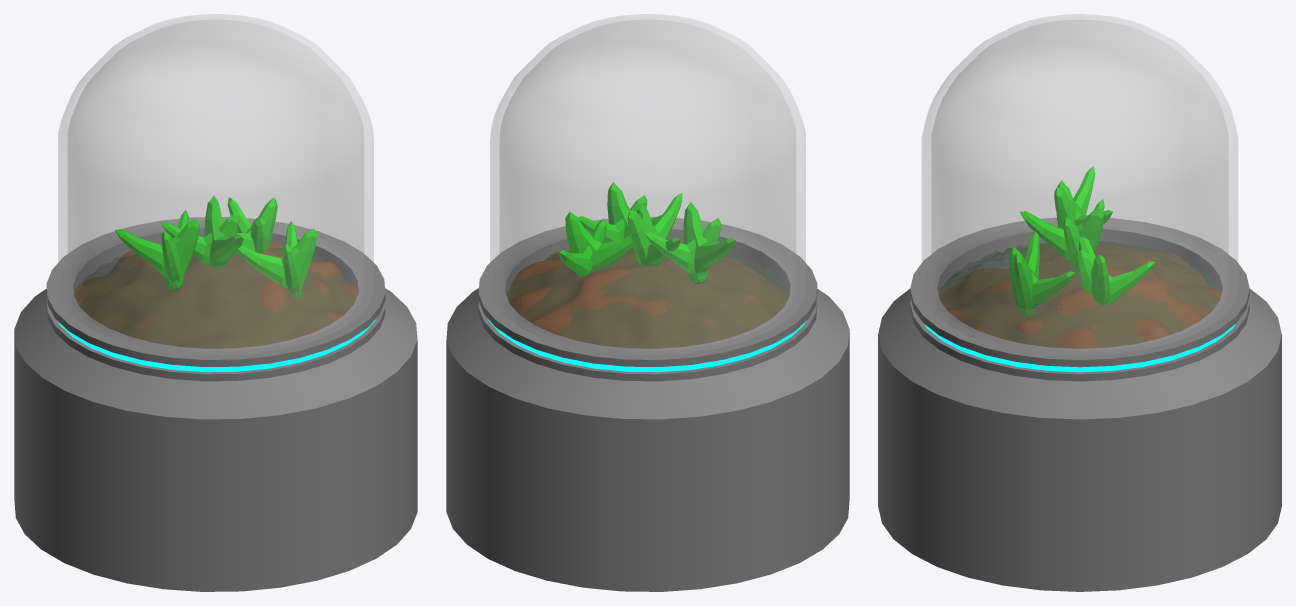
Rendered from LabPlant.fbx.
The picture shows the model from 3 angles, left to right: view 1: azimuth 30°, elevation 25°; view 2: azimuth 150°, elevation 25°; view 3: azimuth 270°, elevation 25°; orthographic projection.
Parts seen in each view (by area): view 1: Cylinder, Circle, Cube.001, Cube, Cube.004, Cube.008, Cube.002, Cube.003, Cube.005, Cube.009, Cube.007, Cube.006; view 2: Cylinder, Circle, Cube.001, Cube, Cube.004, Cube.006, Cube.002, Cube.005, Cube.007, Cube.008, Cube.009, Cube.003; view 3: Cylinder, Circle, Cube.001, Cube, Cube.002, Cube.008, Cube.007, Cube.004, Cube.009, Cube.006, Cube.003.
Boxes of the visible parts, x1,y1,x2,y2 form: Cylinder: [14, 217, 417, 591]; Circle: [58, 14, 373, 354]; Cube.001: [74, 241, 357, 348]; Cube: [76, 247, 356, 348]; Cube.004: [115, 218, 199, 287]; Cube.008: [237, 228, 317, 298]; Cube.002: [204, 195, 243, 268]; Cube.003: [160, 214, 239, 267]; Cube.005: [161, 210, 188, 290]; Cube.009: [282, 221, 299, 298]; Cube.007: [227, 197, 267, 253]; Cube.006: [236, 197, 277, 255]; Cylinder: [446, 217, 849, 591]; Circle: [490, 14, 805, 354]; Cube.001: [506, 238, 786, 348]; Cube: [506, 243, 789, 348]; Cube.004: [683, 202, 735, 281]; Cube.006: [565, 212, 633, 271]; Cube.002: [627, 193, 682, 265]; Cube.005: [645, 218, 721, 283]; Cube.007: [559, 218, 606, 276]; Cube.008: [607, 182, 661, 237]; Cube.009: [578, 195, 647, 242]; Cube.003: [637, 204, 680, 266]; Cylinder: [878, 218, 1281, 591]; Circle: [922, 14, 1237, 354]; Cube.001: [939, 244, 1221, 348]; Cube: [939, 241, 1219, 347]; Cube.002: [1020, 208, 1103, 268]; Cube.008: [1013, 231, 1039, 315]; Cube.007: [1077, 250, 1155, 304]; Cube.004: [1054, 166, 1095, 228]; Cube.009: [1009, 246, 1075, 315]; Cube.006: [1078, 237, 1109, 304]; Cube.003: [1063, 199, 1104, 269].
Bounding box in the file's own units: 224 × 288 × 224.
